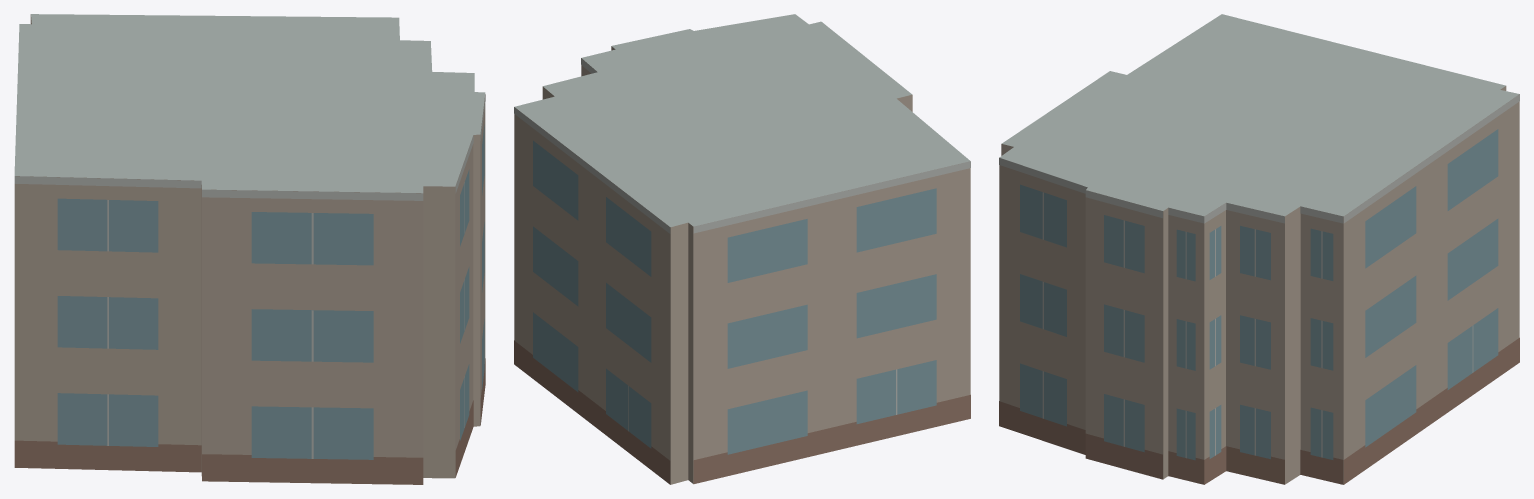
File: survey-upis-32667368.glb
The picture shows the model from 3 angles, left to right: view 1: azimuth 30°, elevation 25°; view 2: azimuth 150°, elevation 25°; view 3: azimuth 270°, elevation 25°; orthographic projection. The views are drawn at different scales.
Parts seen in each view (by area): view 1: survey-upis-32667368.tmp; view 2: survey-upis-32667368.tmp; view 3: survey-upis-32667368.tmp.
Part boxes in pixels (box(x1,y1,x2,y2)): survey-upis-32667368.tmp: box(14, 14, 485, 484); survey-upis-32667368.tmp: box(514, 14, 970, 484); survey-upis-32667368.tmp: box(999, 14, 1519, 484).
Size of the model in its own units: 14.73 by 9.1 by 16.
